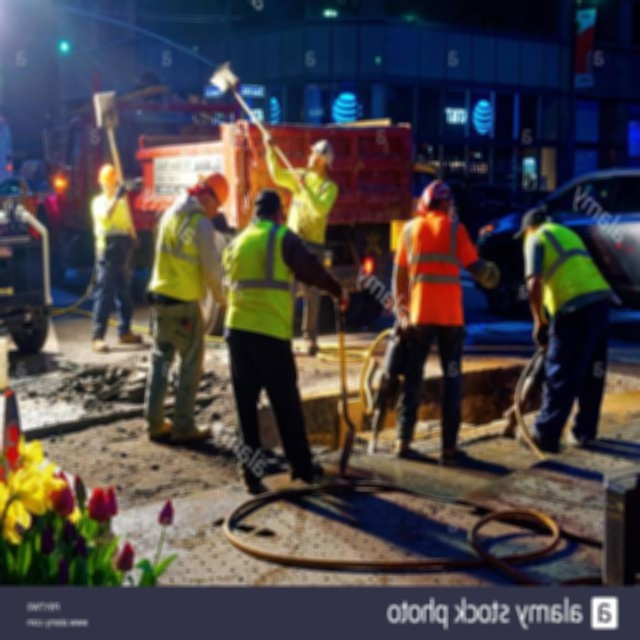Con_Casco: (197, 170, 228, 217), (308, 140, 333, 171), (98, 164, 119, 196)
Con_Chaleco: (226, 220, 293, 330), (405, 211, 467, 325), (527, 225, 601, 312), (153, 204, 207, 303)
Sin_Casco_Mascarrilla: (254, 190, 288, 222)
